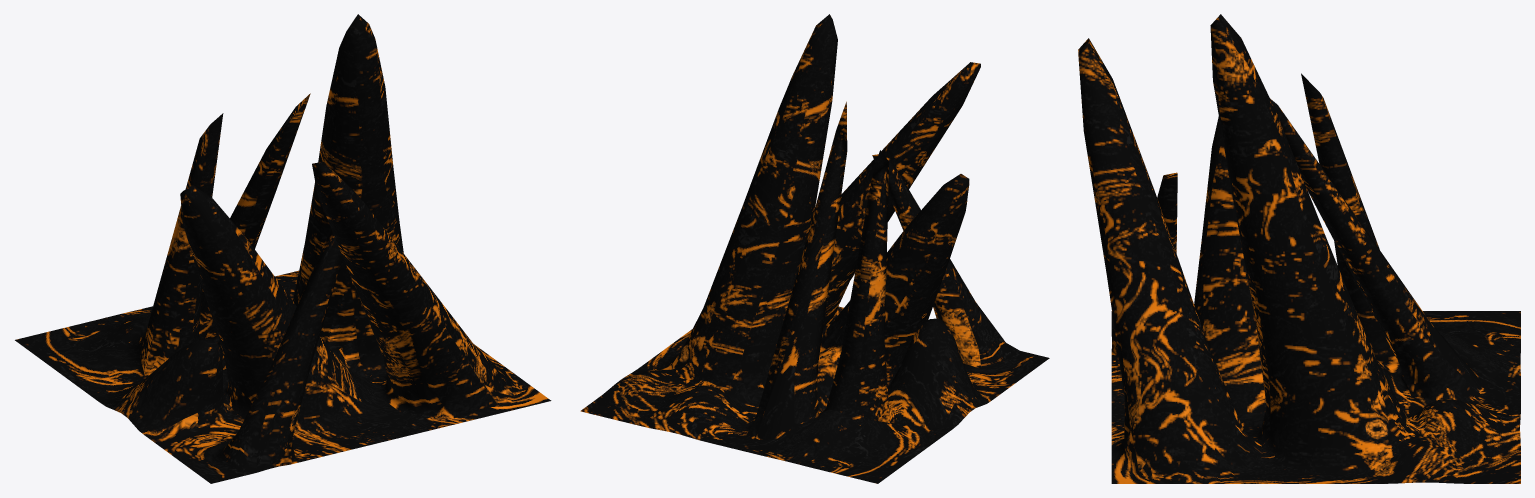
Rendered from Spike wall.fbx.
3 views of the same model, side by side, from view 1: azimuth 30°, elevation 25°; view 2: azimuth 150°, elevation 25°; view 3: azimuth 270°, elevation 25° (orthographic). The views are drawn at different scales.
Parts seen in each view (by area): view 1: spike_wall; view 2: spike_wall; view 3: spike_wall.
Boxes of the visible parts, <box> form: spike_wall: <box>15,14,551,483</box>; spike_wall: <box>580,14,1049,483</box>; spike_wall: <box>1078,14,1520,483</box>.
Bounding box in the file's own units: 400 × 430 × 433.
Materials: 1 (1 with a texture image).
